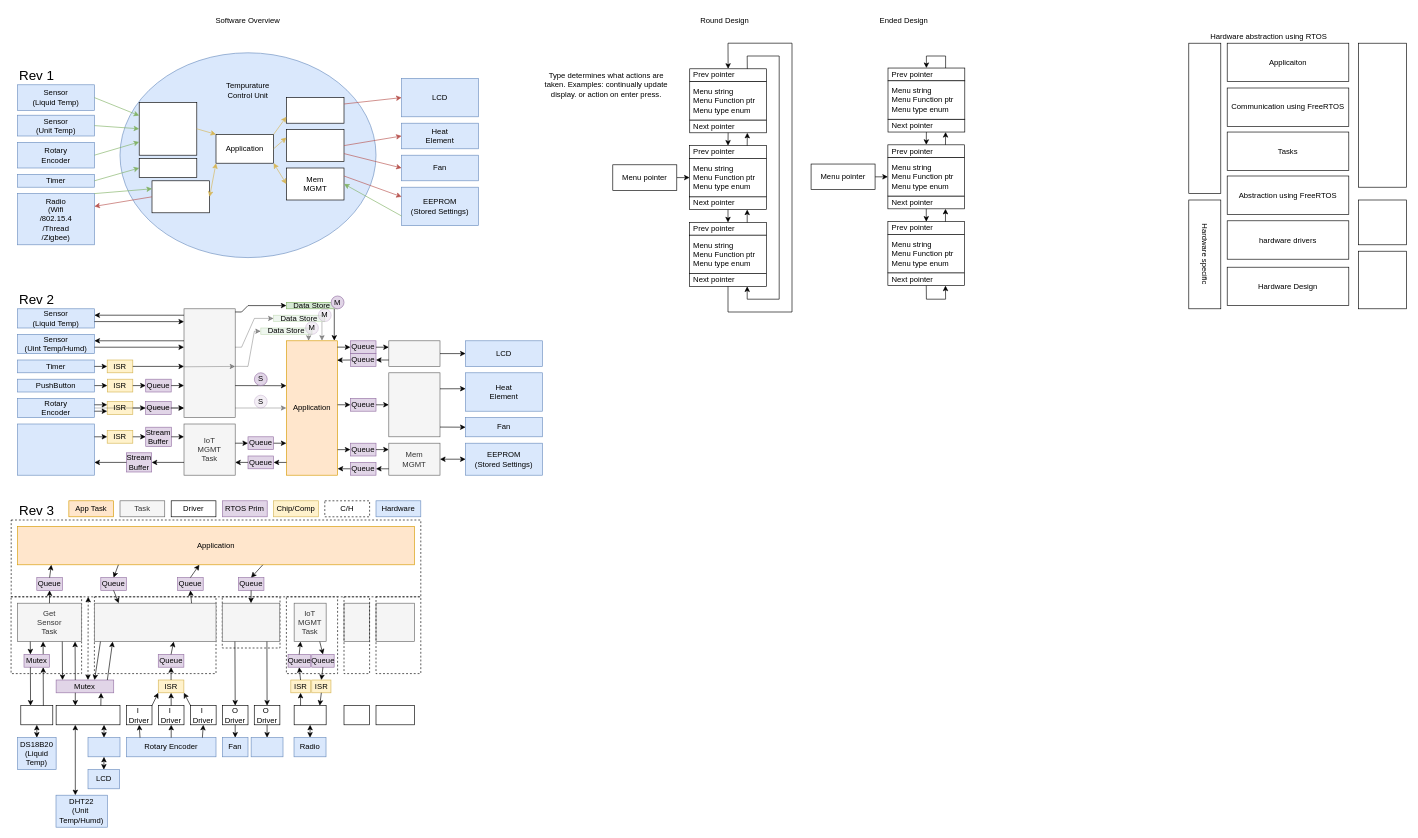
This 1418x838 diagram has some shape labels left out. Here are the shapes that lost their labels. From the top down, the centre of each, then its label:
At pixel 168 128: "Proccess Input".
At pixel 315 110: "Print".
At pixel 1204 118: "Hardware aggnostic".
At pixel 1382 115: "True Applicaiton".
At pixel 315 145: "Proccess Output".
At pixel 168 168: "Timer Input".
At pixel 180 196: "Network MGMT".
At pixel 1382 222: "Abstraction True".
At pixel 1382 280: "Hawrdware".
At pixel 209 363: "Proccess Input Task".
At pixel 414 353: "Display".
At pixel 414 404: "Proccess Outputs".
At pixel 55 449: "Radio (Wifi /802.15.4 /Thread /Zigbee /Bluetooth)".
At pixel 155 622: "HMI Task".
At pixel 251 622: "Outputs Task".
At pixel 356 622: "Timer Task".
At pixel 394 622: "Mem MGMT Task".
At pixel 36 715: "1-Wire".
At pixel 87 715: "I2C Driver".
At pixel 310 715: "UART Driver".
At pixel 356 715: "Timer Driver".
At pixel 394 715: "EEPROM Driver".
At pixel 103 747: "Adapter".
At pixel 266 747: "Heating Element".
